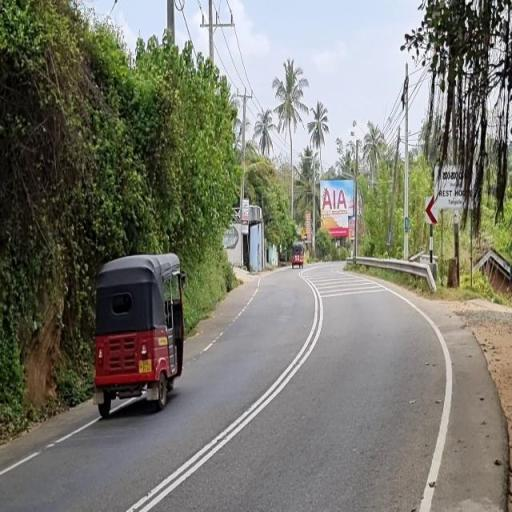double_white_line: (126, 280, 325, 511)
